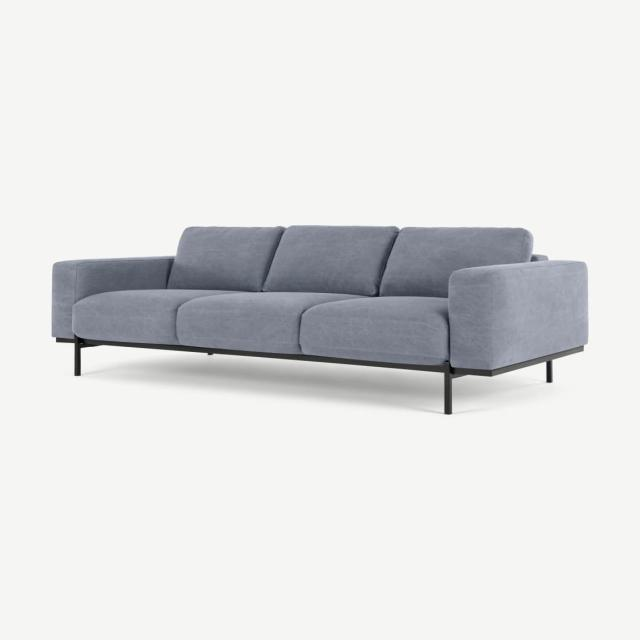back_cushion: (169, 225, 533, 297)
left_arm: (448, 261, 587, 373)
legs: (444, 367, 454, 414), (74, 343, 81, 375), (545, 360, 553, 383)
right_arm: (52, 256, 173, 340)
seat_cushion: (72, 289, 448, 365)
stallion-sofa: (0, 0, 639, 639)
